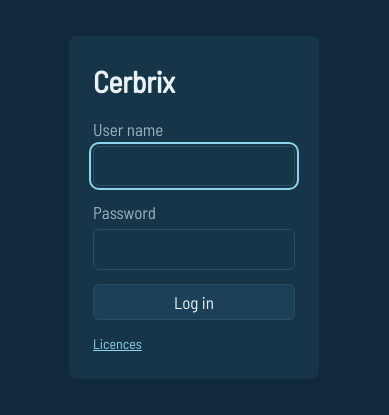
Test case: LoginPage › says to wait a few minutes for 429 (the server is busy checking passwords, try again shortly)
The width and height of the screenshot is (389, 415).
In the field labelled "User name": (194, 166) x1=93 y1=146 x2=295 y2=186, type "anna"
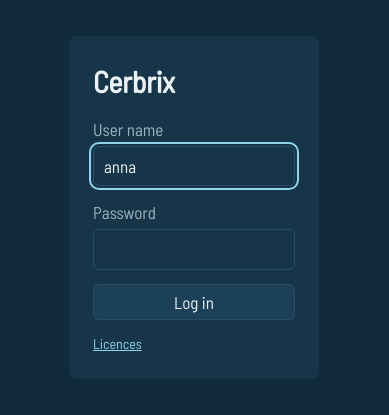
In the password field labelled "Password": (194, 249) x1=93 y1=229 x2=295 y2=270, type "secret-password"
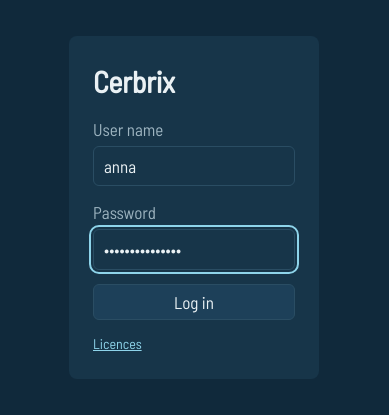
Click the button "Log in": (194, 302) x1=93 y1=284 x2=295 y2=320
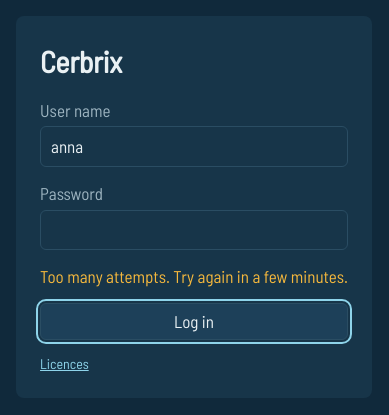
Expected: the text "Too many attempts. Try again in a few minutes." is shown, x1=40 y1=264 x2=348 y2=289
Expected: the password field labelled "Password" is empty, x1=40 y1=210 x2=348 y2=250
